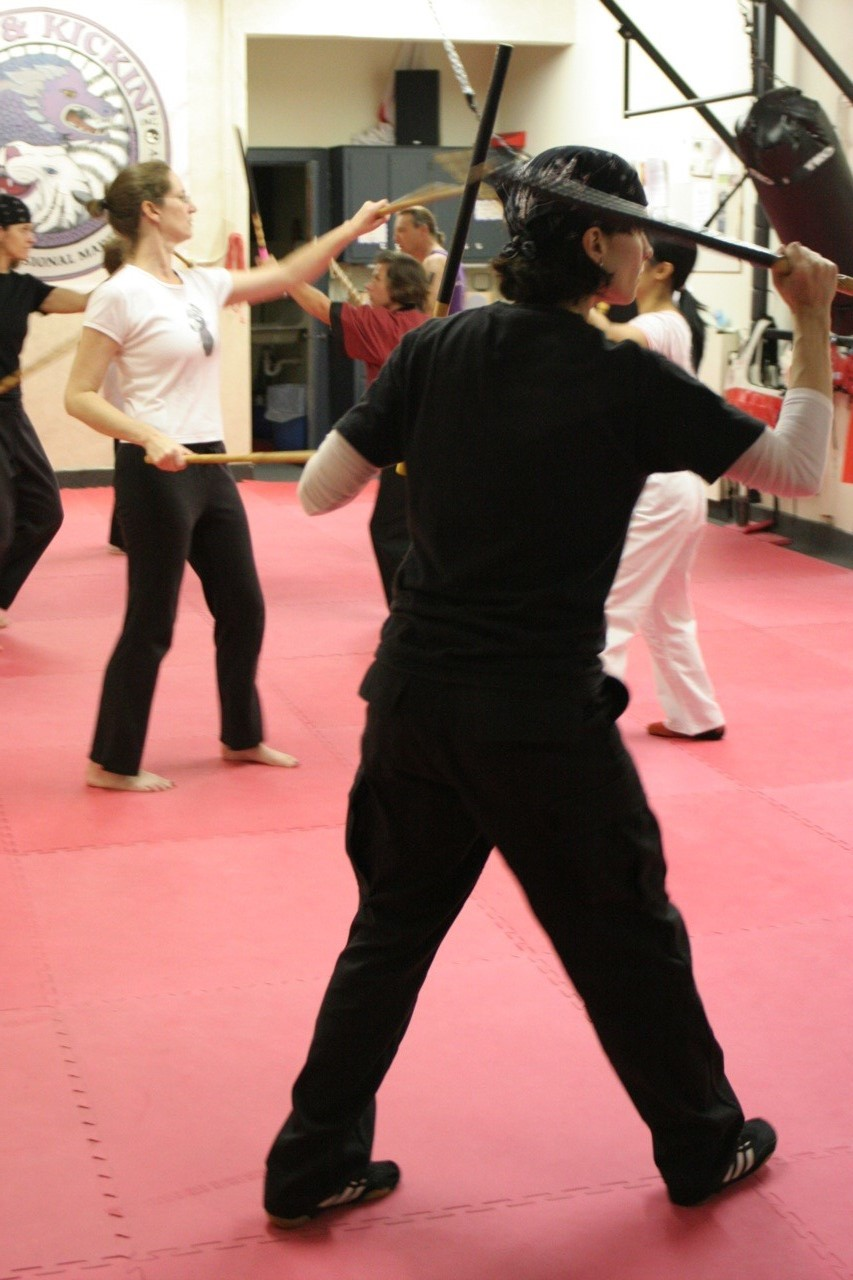baston_e: (507, 164, 772, 269), (430, 59, 515, 309), (3, 332, 76, 394), (234, 131, 268, 255), (381, 184, 463, 219), (187, 448, 314, 466), (327, 264, 367, 302)
baston_v: (488, 36, 523, 65), (141, 451, 156, 466), (232, 124, 242, 133)
